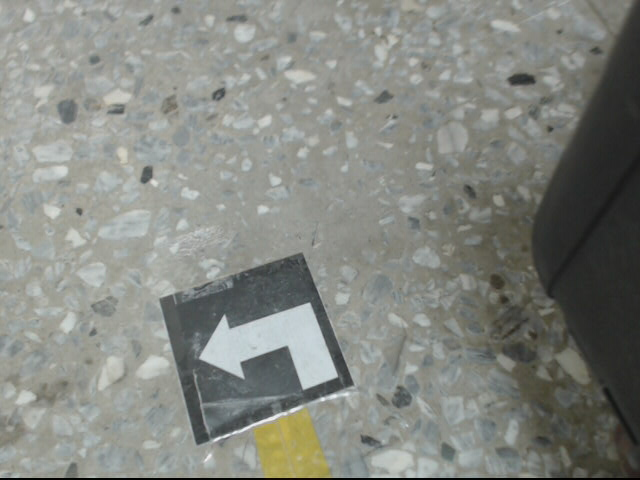left: (159, 250, 357, 443)
